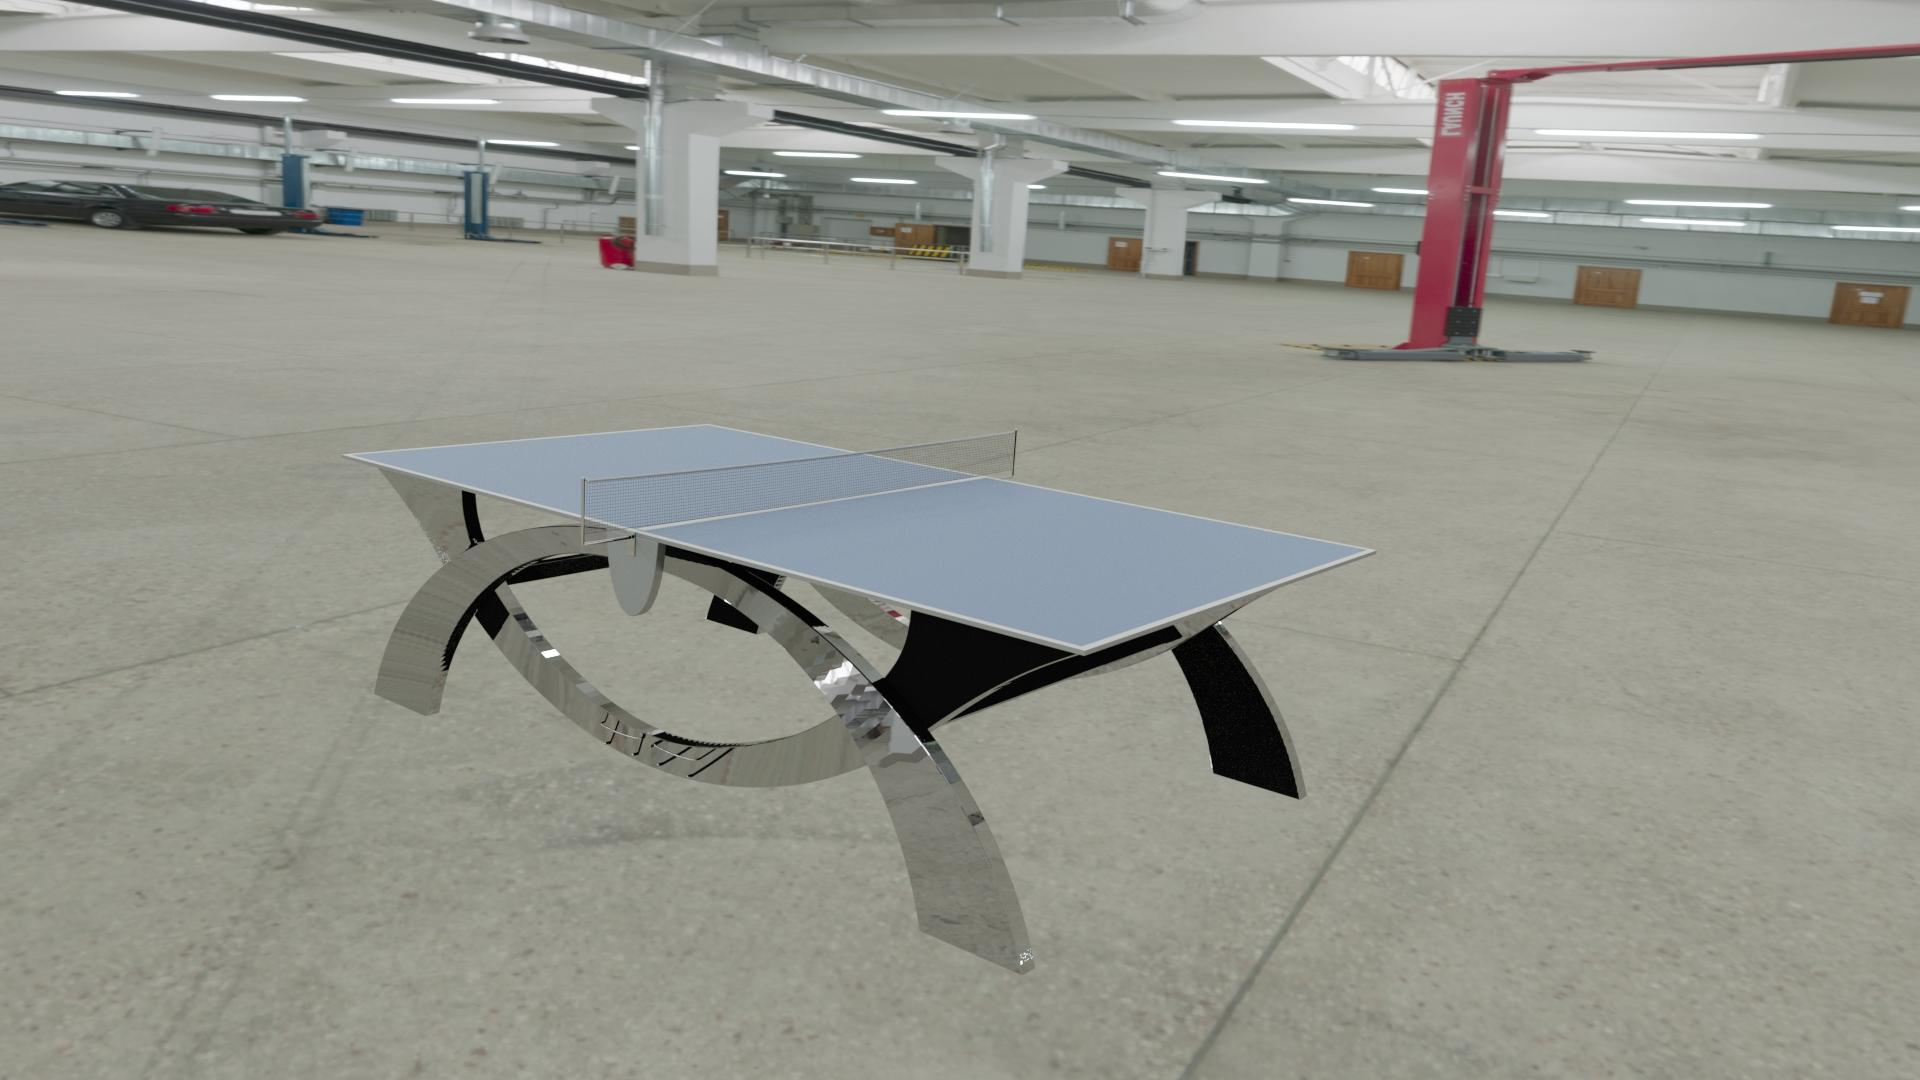table: (351, 425, 1367, 647)
